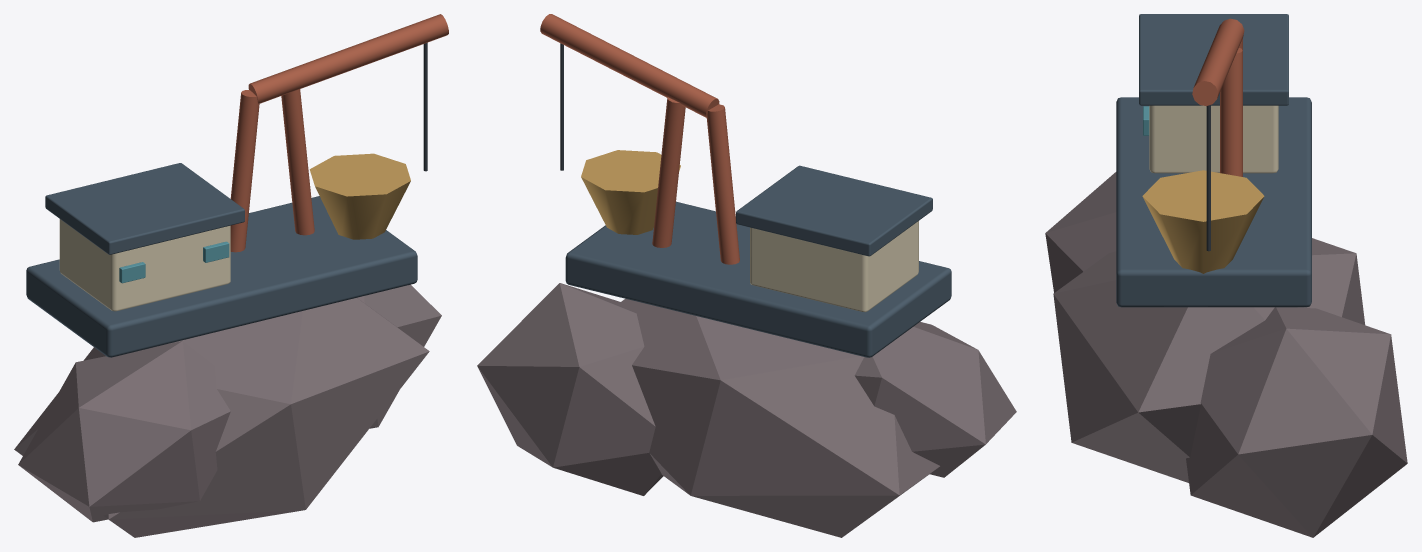
The model's file is anchor.glb.
3 views of the same model, side by side, from view 1: azimuth 30°, elevation 25°; view 2: azimuth 150°, elevation 25°; view 3: azimuth 270°, elevation 25° (orthographic). The views are drawn at different scales.
Visible parts, largest first — view 1: Rock face (×3), Structural deck, Roof slab, Habitat pressure shell, Ore hopper, Crane leg (×2), Boom, Hoist line; view 2: Rock face (×3), Structural deck, Roof slab, Habitat pressure shell, Crane leg (×2), Ore hopper, Boom; view 3: Rock face (×3), Structural deck, Roof slab, Ore hopper, Habitat pressure shell, Crane leg, Boom, Hoist line.
Part boxes in pixels (<box>): Rock face (×3): <box>14,284,441,537</box>; Structural deck: <box>26,196,417,357</box>; Roof slab: <box>45,163,244,254</box>; Habitat pressure shell: <box>59,219,230,311</box>; Ore hopper: <box>309,153,410,239</box>; Crane leg (×2): <box>230,89,314,252</box>; Boom: <box>248,14,448,103</box>; Hoist line: <box>423,42,427,171</box>; Rock face (×3): <box>477,283,1016,537</box>; Structural deck: <box>565,201,951,357</box>; Roof slab: <box>736,165,932,256</box>; Habitat pressure shell: <box>750,221,918,312</box>; Crane leg (×2): <box>652,97,739,264</box>; Ore hopper: <box>581,150,680,234</box>; Boom: <box>540,14,719,117</box>; Rock face (×3): <box>1045,172,1407,537</box>; Structural deck: <box>1116,97,1311,307</box>; Roof slab: <box>1139,14,1288,105</box>; Ore hopper: <box>1142,170,1264,273</box>; Habitat pressure shell: <box>1149,105,1278,173</box>; Crane leg: <box>1220,48,1242,176</box>; Boom: <box>1192,18,1244,106</box>; Hoist line: <box>1206,105,1210,251</box>.
Bounding box in the file's own units: 3.44 × 3.33 × 2.07.
